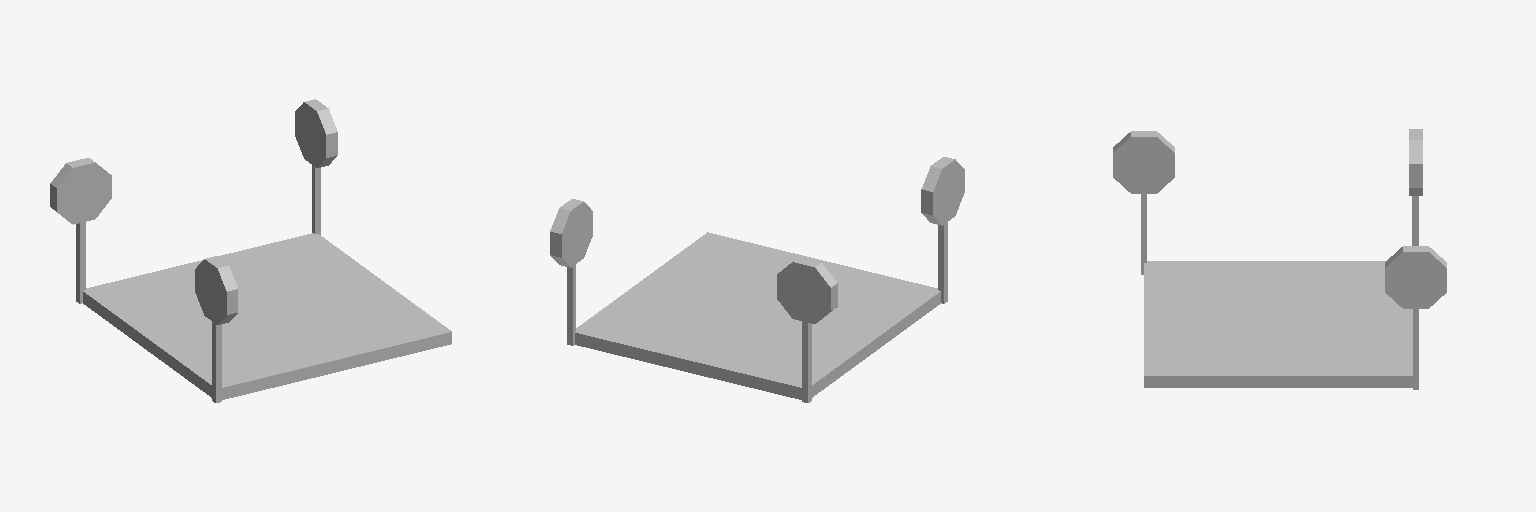
Rendered from type1_3WayStop.obj.
The picture shows the model from 3 angles: view 1: azimuth 30°, elevation 25°; view 2: azimuth 150°, elevation 25°; view 3: azimuth 270°, elevation 25°; orthographic projection.
Visible parts, largest first — view 1: type1_3WayStop_Cube.001, Circle.001_Circle.002, Circle.002, Circle_Circle.002; view 2: type1_3WayStop_Cube.001, Circle.001_Circle.002, Circle.002, Circle_Circle.002; view 3: type1_3WayStop_Cube.001, Circle_Circle.002, Circle.002, Circle.001_Circle.002.
Part boxes in pixels (bbox=[...]): type1_3WayStop_Cube.001: bbox=[83, 233, 451, 399]; Circle.001_Circle.002: bbox=[50, 158, 111, 303]; Circle.002: bbox=[195, 256, 237, 402]; Circle_Circle.002: bbox=[295, 99, 337, 234]; type1_3WayStop_Cube.001: bbox=[575, 232, 940, 399]; Circle.001_Circle.002: bbox=[777, 257, 837, 402]; Circle.002: bbox=[921, 157, 964, 303]; Circle_Circle.002: bbox=[550, 199, 592, 345]; type1_3WayStop_Cube.001: bbox=[1144, 261, 1412, 387]; Circle_Circle.002: bbox=[1385, 246, 1446, 389]; Circle.002: bbox=[1113, 131, 1174, 274]; Circle.001_Circle.002: bbox=[1409, 129, 1422, 245].
Size of the model in its own units: 2.28 by 1.13 by 2.46.